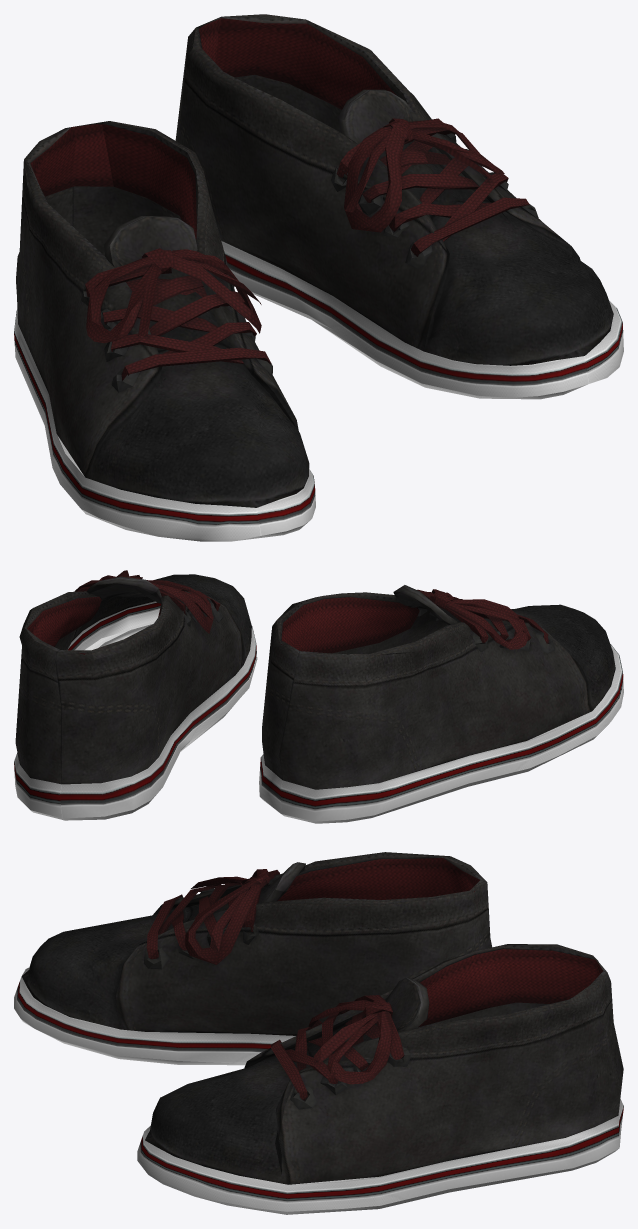
File: Shoes.FBX
The picture shows the model from 3 angles, top to bottom: view 1: azimuth 30°, elevation 25°; view 2: azimuth 150°, elevation 25°; view 3: azimuth 270°, elevation 25°; orthographic projection. The views are drawn at different scales.
Parts seen in each view (by area): view 1: shoes; view 2: shoes; view 3: shoes.
Part boxes in pixels (box(x1,y1,x2,y2)): shoes: box(14, 14, 623, 541); shoes: box(14, 570, 623, 823); shoes: box(14, 852, 623, 1214).
Size of the model in its own units: 32.23 by 11.57 by 34.93.
1 material, 1 textured.
